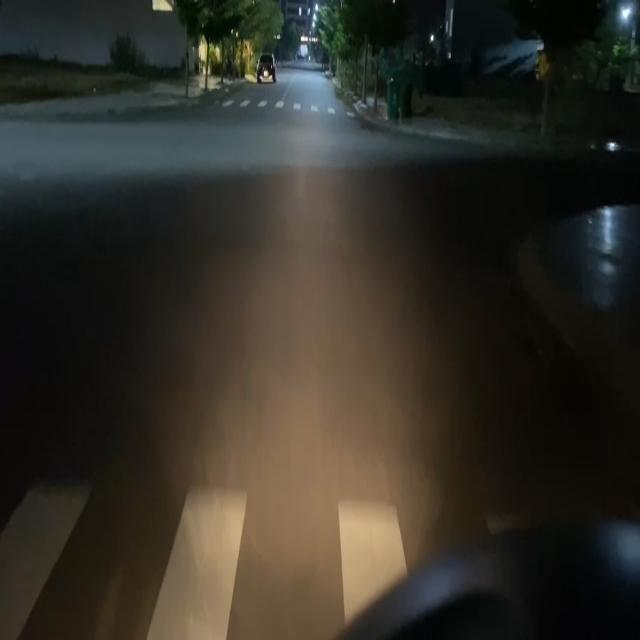walk-crossing: (2, 480, 541, 640), (214, 94, 358, 122)
